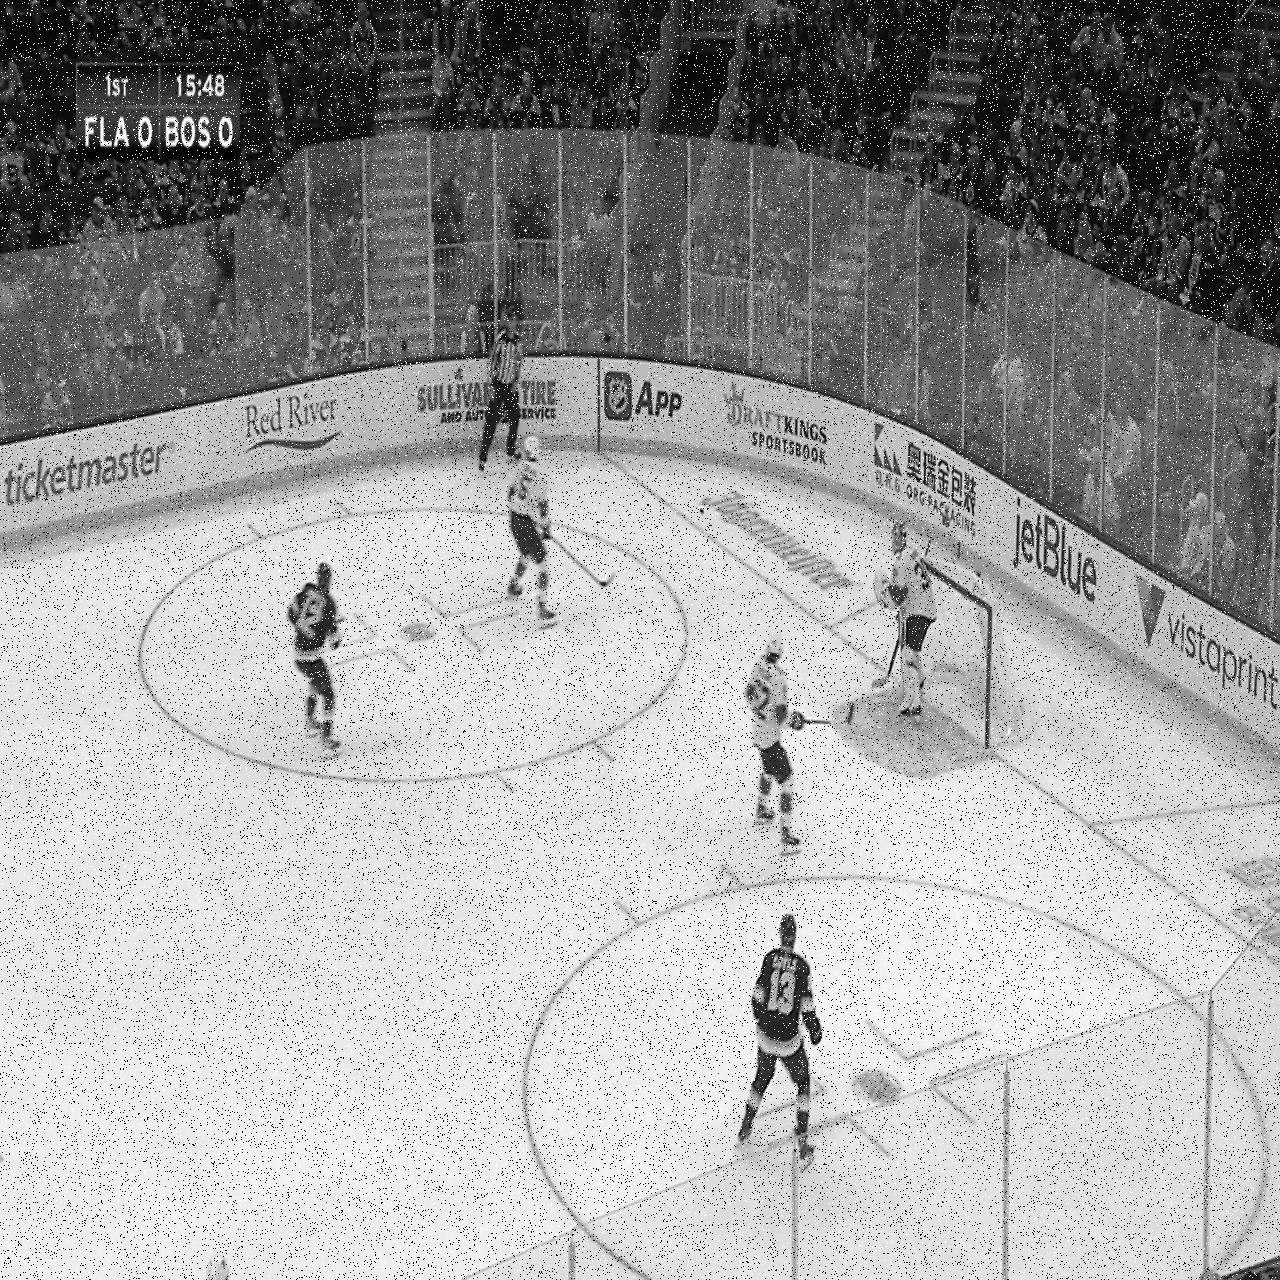Ad: (0, 411, 186, 561), (1133, 558, 1279, 742), (685, 482, 858, 605), (864, 413, 983, 543), (410, 359, 568, 441), (1009, 490, 1097, 635), (726, 374, 832, 485), (602, 353, 693, 445), (234, 395, 361, 459)
